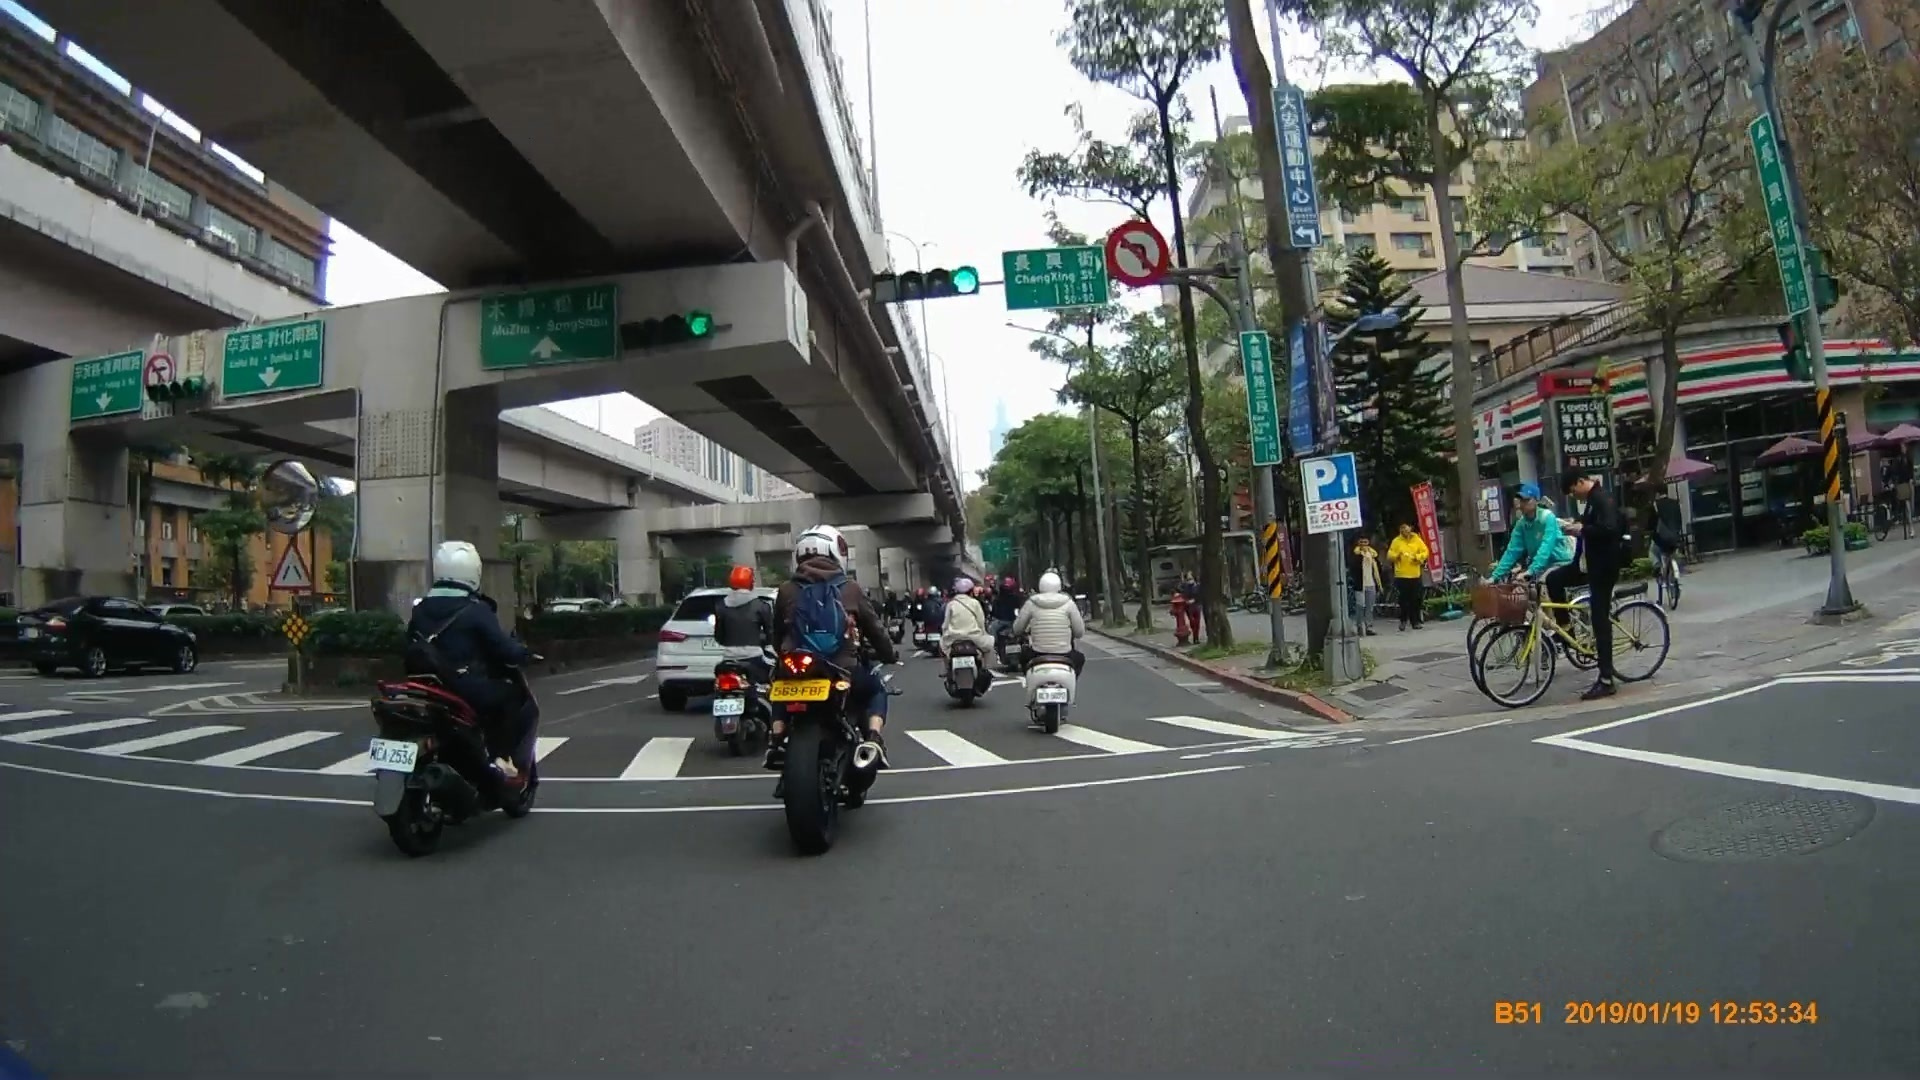License_plate: (367, 738, 419, 773), (771, 680, 832, 704), (1032, 686, 1070, 706)
